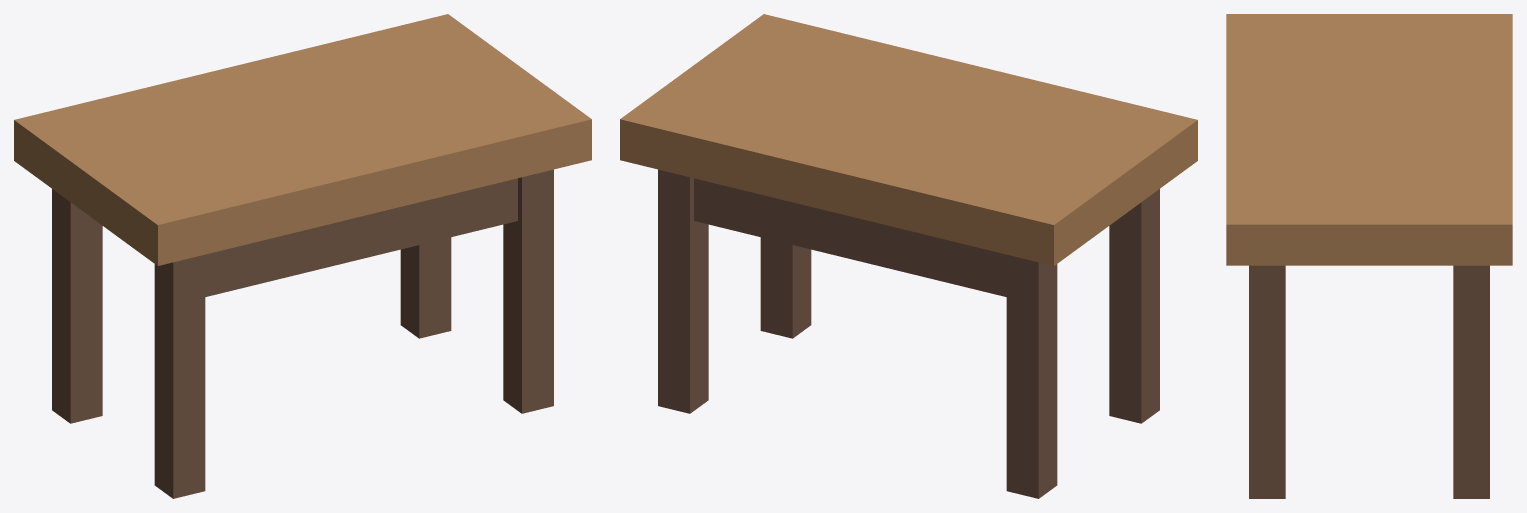
The model's file is table.glb.
3 views of the same model, side by side, from view 1: azimuth 30°, elevation 25°; view 2: azimuth 150°, elevation 25°; view 3: azimuth 270°, elevation 25° (orthographic).
Parts seen in each view (by area): view 1: Table top, Table apron back, Table leg.001, Table leg.003, Table leg, Table leg.002; view 2: Table top, Table apron front, Table leg, Table leg.002, Table leg.001, Table leg.003; view 3: Table top, Table leg.002, Table leg.003.
Boxes of the visible parts, bbox=[...] form: Table top: bbox=[14, 14, 591, 265]; Table apron back: bbox=[205, 178, 517, 296]; Table leg.001: bbox=[154, 254, 205, 498]; Table leg.003: bbox=[503, 169, 553, 413]; Table leg: bbox=[52, 189, 102, 423]; Table leg.002: bbox=[400, 237, 451, 338]; Table top: bbox=[620, 14, 1197, 265]; Table apron front: bbox=[694, 178, 1006, 296]; Table leg: bbox=[1006, 254, 1057, 498]; Table leg.002: bbox=[658, 169, 708, 413]; Table leg.001: bbox=[1109, 189, 1159, 423]; Table leg.003: bbox=[760, 237, 811, 338]; Table top: bbox=[1226, 14, 1512, 265]; Table leg.002: bbox=[1453, 265, 1489, 498]; Table leg.003: bbox=[1249, 265, 1285, 498].
Size of the model in its own units: 1.22 by 0.775 by 0.7.
